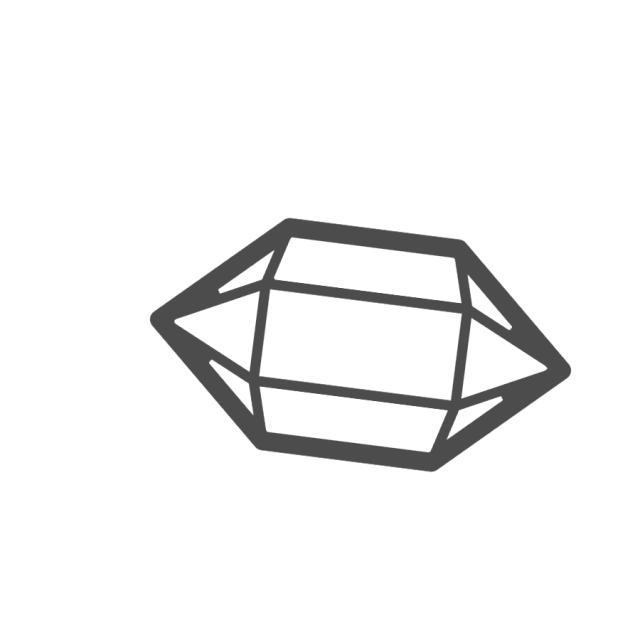crystal: (141, 210, 581, 481)
